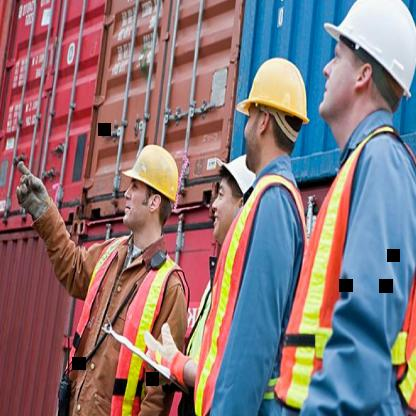helmet: (318, 0, 416, 128), (238, 55, 310, 173), (120, 143, 179, 236), (212, 152, 260, 244)
